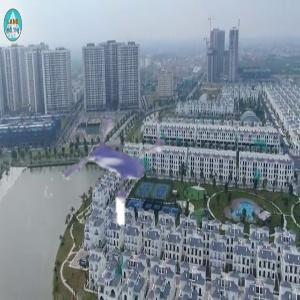drone: (39, 101, 190, 252)
